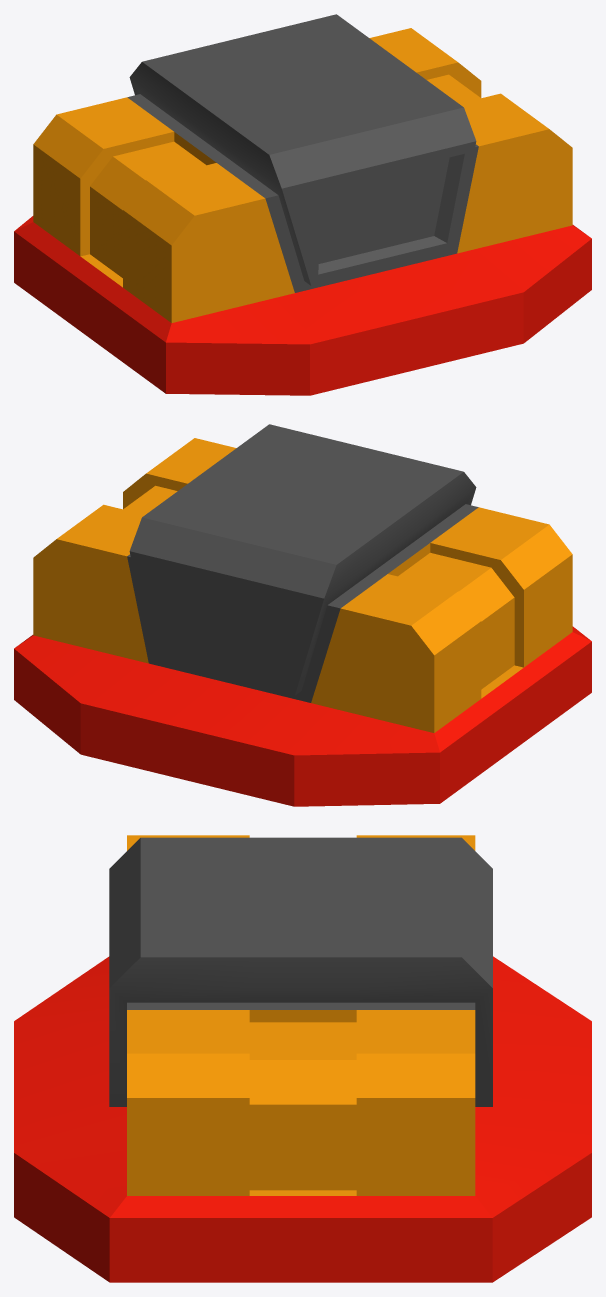
3 views of the same model, one above another, from view 1: azimuth 30°, elevation 25°; view 2: azimuth 150°, elevation 25°; view 3: azimuth 270°, elevation 25° (orthographic). The views are drawn at different scales.
Visible parts, largest first — view 1: Generator; view 2: Generator; view 3: Generator.
Part boxes in pixels (bbox=[...]): Generator: bbox=[14, 14, 591, 395]; Generator: bbox=[14, 424, 591, 806]; Generator: bbox=[14, 835, 591, 1282].
Bounding box in the file's own units: 64.5 × 29.17 × 60.12.
